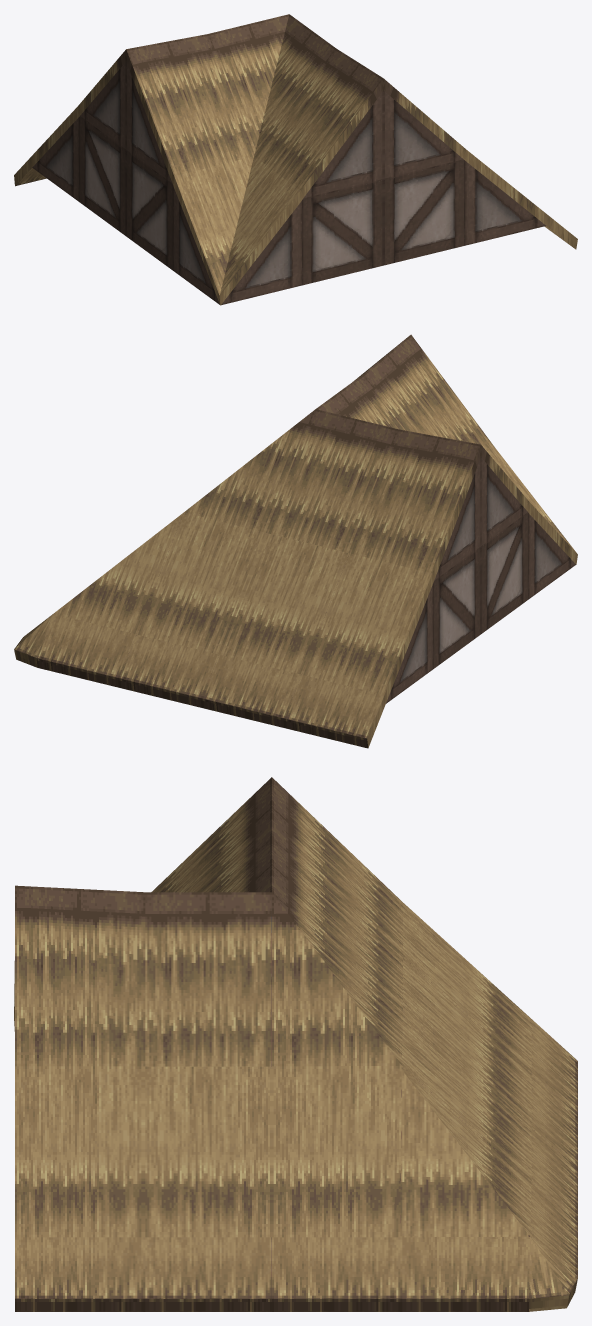
The model's file is roof_straw_corner.glb.
3 renders of one model, top to bottom at view 1: azimuth 30°, elevation 25°; view 2: azimuth 150°, elevation 25°; view 3: azimuth 270°, elevation 25°, orthographic. The views are drawn at different scales.
Parts seen in each view (by area): view 1: roof_straw_corner; view 2: roof_straw_corner; view 3: roof_straw_corner.
Boxes of the visible parts, bbox=[...] form: roof_straw_corner: bbox=[14, 14, 577, 305]; roof_straw_corner: bbox=[14, 334, 577, 748]; roof_straw_corner: bbox=[14, 777, 577, 1311].
Bounding box in the file's own units: 4.4 × 2.56 × 4.39.
1 material, 1 textured.
